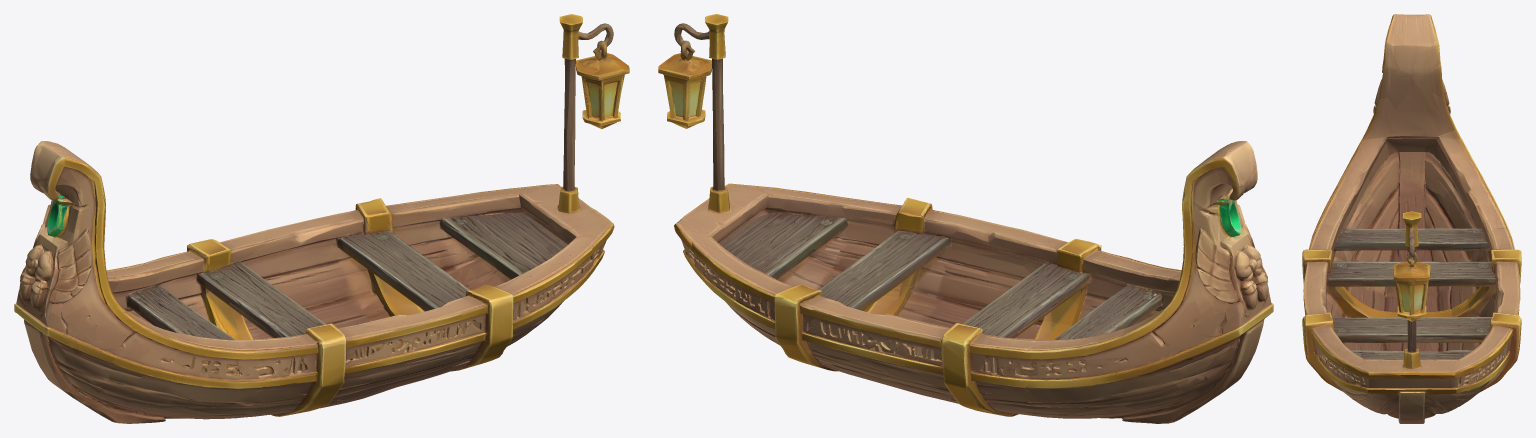
The model's file is et_boat.glb.
3 renders of one model, left to right at view 1: azimuth 30°, elevation 25°; view 2: azimuth 150°, elevation 25°; view 3: azimuth 270°, elevation 25°, orthographic. The views are drawn at different scales.
Bounding box in the file's own units: 1.9 × 0.9422 × 0.7534.
1 material, 1 textured.
